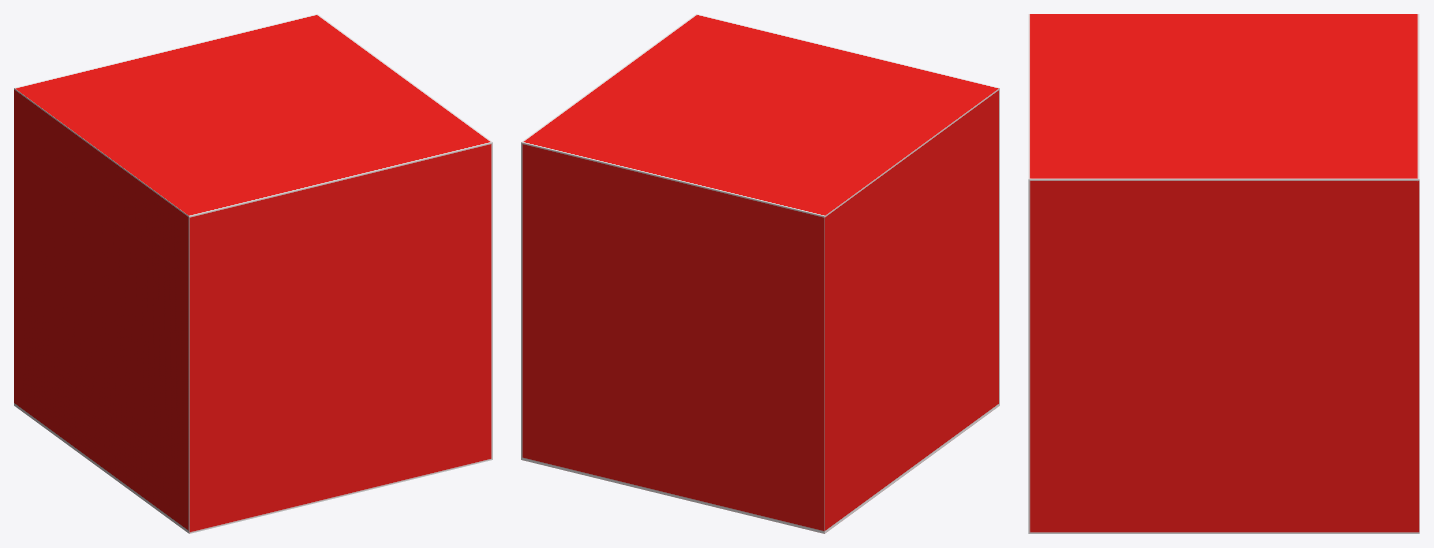
Rendered from message_selected.dae.
3 renders of one model, left to right at view 1: azimuth 30°, elevation 25°; view 2: azimuth 150°, elevation 25°; view 3: azimuth 270°, elevation 25°, orthographic. The views are drawn at different scales.
Parts seen in each view (by area): view 1: Z_ClassFrame; view 2: Z_ClassFrame; view 3: Z_ClassFrame.
Boxes of the visible parts, bbox=[...] form: Z_ClassFrame: bbox=[14, 14, 492, 533]; Z_ClassFrame: bbox=[521, 14, 999, 533]; Z_ClassFrame: bbox=[1028, 14, 1419, 533].
Bounding box in the file's own units: 2 × 2 × 2.
2 materials, 2 textured.
